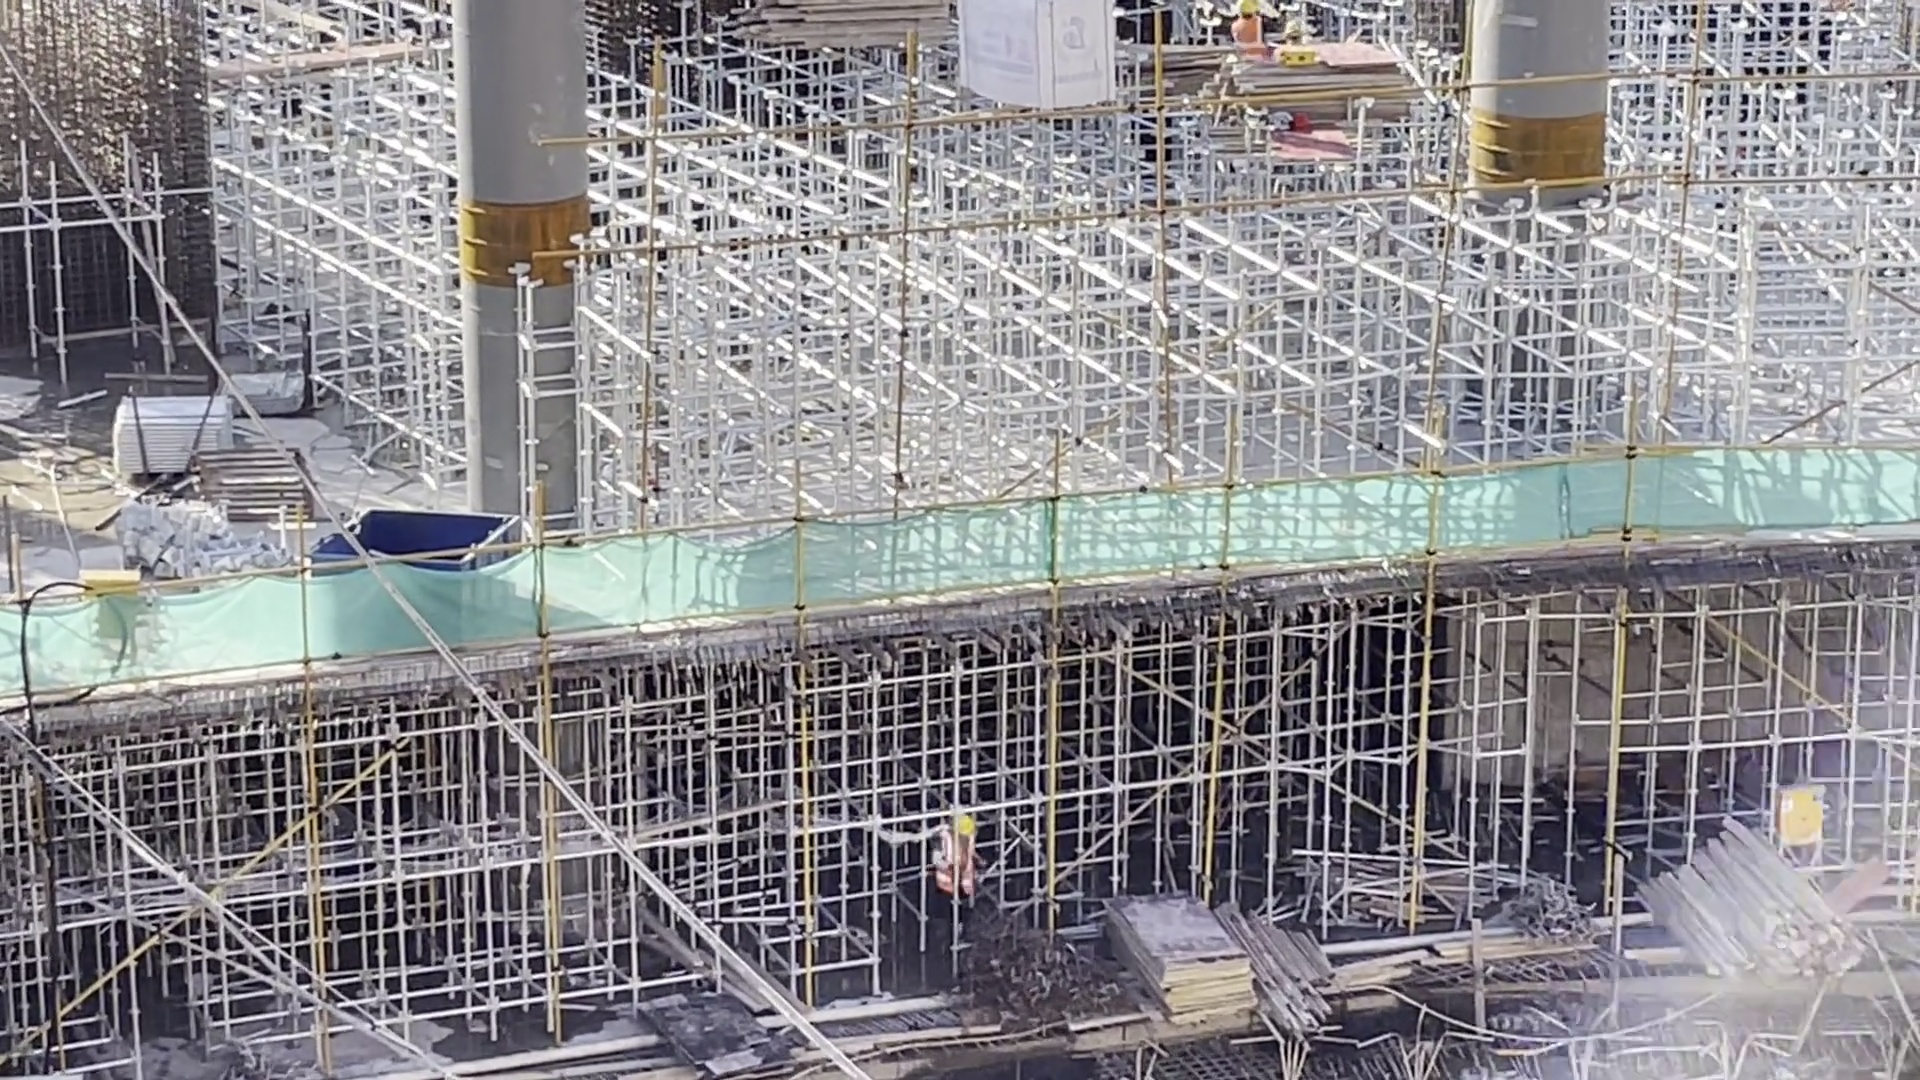board: (1101, 887, 1259, 1031), (1219, 35, 1428, 130)
ebox: (1774, 782, 1829, 860), (76, 563, 141, 589)
helmet: (954, 813, 975, 838), (1236, 3, 1261, 16)
hopper: (295, 504, 528, 545)
person: (933, 816, 989, 930), (1227, 3, 1276, 42)
scaffold: (110, 394, 240, 454)
vest: (1230, 19, 1265, 42)
wood: (1638, 815, 1873, 986), (717, 1, 955, 58), (1269, 913, 1334, 1037)
